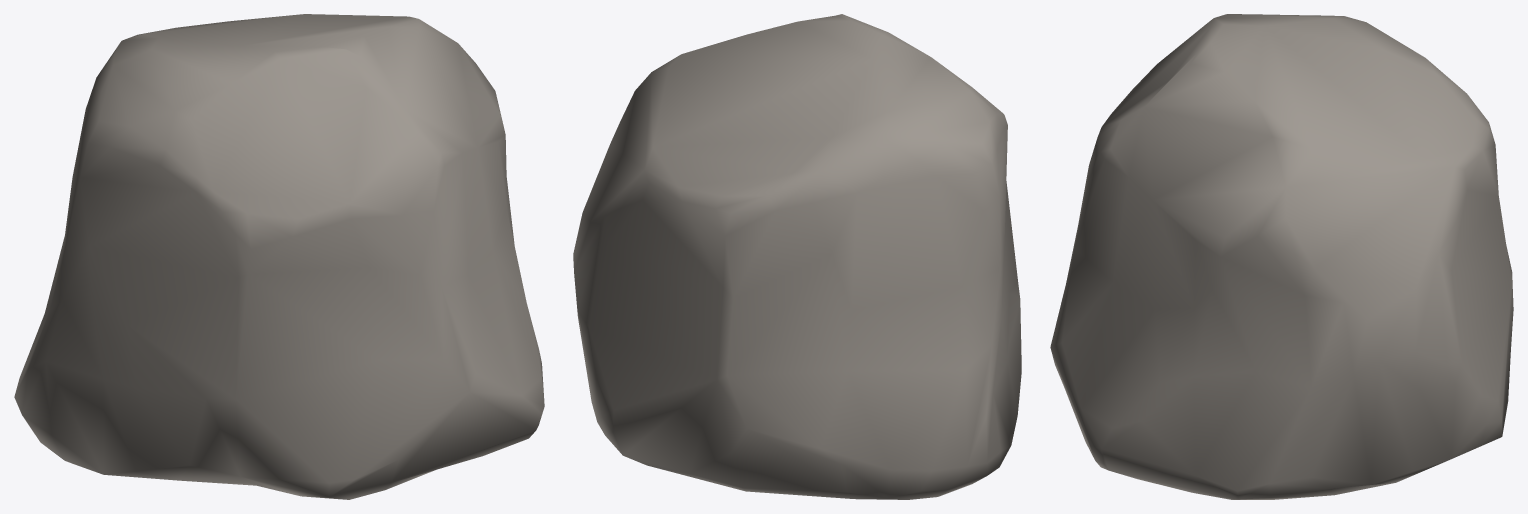
The model's file is Environment_Rock_1.gltf.
3 views of the same model, side by side, from view 1: azimuth 30°, elevation 25°; view 2: azimuth 150°, elevation 25°; view 3: azimuth 270°, elevation 25° (orthographic). The views are drawn at different scales.
Parts seen in each view (by area): view 1: Environment_Rock_1; view 2: Environment_Rock_1; view 3: Environment_Rock_1.
Boxes of the visible parts, x1,y1,x2,y2 form: Environment_Rock_1: [14, 14, 544, 499]; Environment_Rock_1: [573, 14, 1021, 499]; Environment_Rock_1: [1050, 14, 1513, 499].
Bounding box in the file's own units: 0.6881 × 0.5872 × 0.6574.
Materials: 1 (1 with a texture image).
